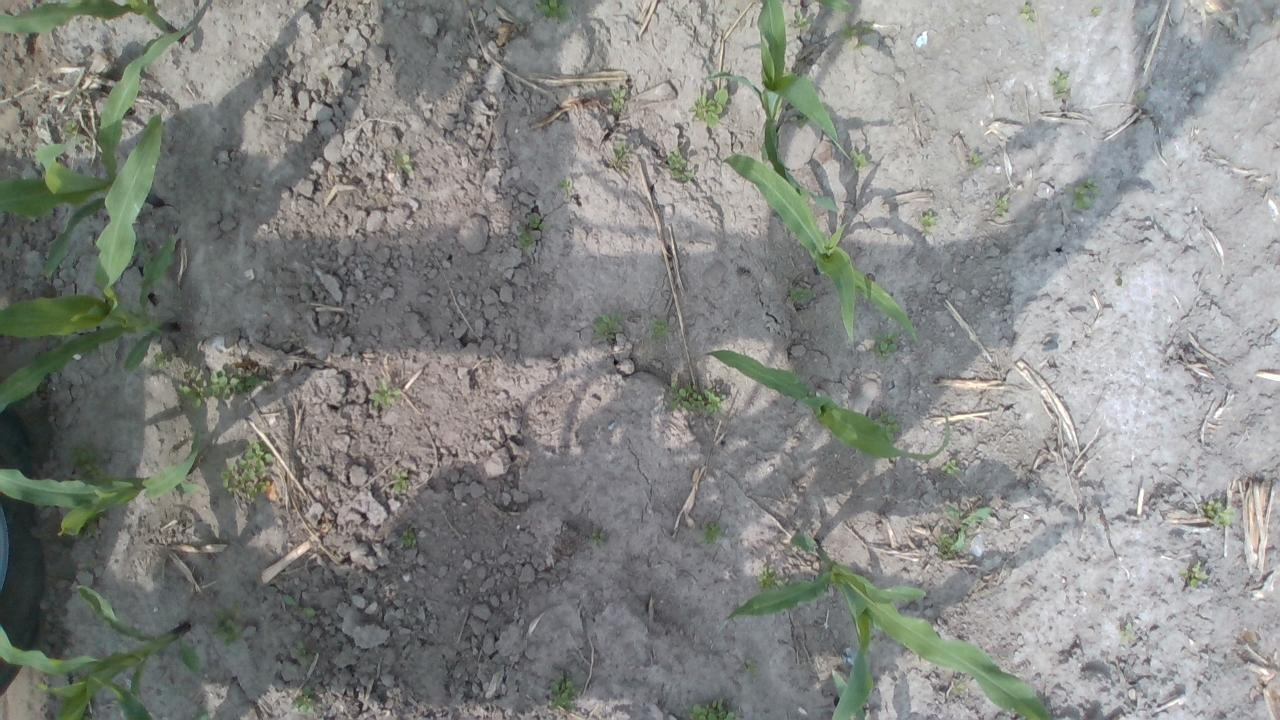Maize: (713, 532, 1053, 720), (0, 113, 179, 417), (0, 25, 197, 278), (718, 155, 916, 346), (700, 0, 854, 211), (696, 347, 951, 464), (0, 584, 203, 720), (0, 428, 205, 539), (0, 0, 182, 43)
Weeds: (178, 367, 268, 407), (220, 440, 274, 502), (936, 504, 990, 559), (668, 381, 728, 417), (686, 87, 730, 129), (208, 600, 246, 647), (64, 439, 109, 478), (684, 697, 742, 720), (1064, 176, 1100, 212), (548, 674, 580, 712), (836, 21, 876, 51), (1200, 496, 1236, 528), (667, 148, 695, 185), (870, 329, 899, 360), (1179, 559, 1210, 588), (368, 380, 401, 407), (280, 593, 315, 618), (874, 410, 902, 441), (756, 566, 788, 592), (76, 512, 103, 541), (536, 0, 570, 23), (290, 685, 316, 715), (1047, 66, 1069, 100), (594, 314, 620, 342), (694, 521, 724, 545), (786, 282, 814, 306), (648, 316, 672, 342), (610, 140, 630, 170), (130, 238, 156, 261), (292, 640, 312, 667), (610, 88, 629, 114), (1016, 3, 1036, 26), (393, 148, 412, 172), (397, 528, 419, 548), (152, 350, 176, 368), (738, 659, 762, 677), (847, 148, 868, 168), (787, 9, 808, 29), (918, 210, 936, 233), (516, 224, 532, 249), (994, 192, 1010, 216), (525, 212, 546, 230), (949, 678, 969, 696), (1118, 622, 1136, 642), (789, 110, 809, 127), (62, 118, 78, 138), (940, 459, 960, 475), (588, 531, 606, 548), (393, 472, 408, 492), (1131, 89, 1148, 104), (970, 153, 985, 169), (558, 178, 574, 188), (1090, 5, 1103, 17), (82, 141, 94, 153)
